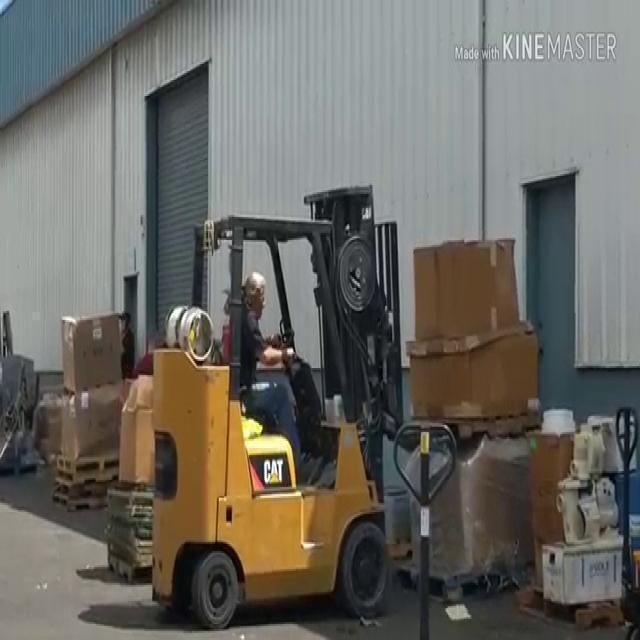forklift: (145, 178, 405, 626)
